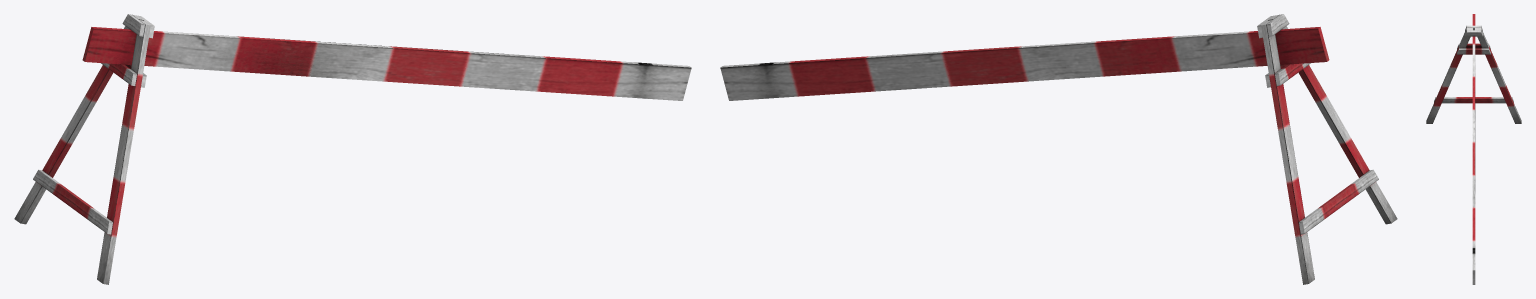
File: barrier_3m_left.glb
3 renders of one model, left to right at view 1: azimuth 30°, elevation 25°; view 2: azimuth 150°, elevation 25°; view 3: azimuth 270°, elevation 25°, orthographic. The views are drawn at different scales.
Visible parts, largest first — view 1: Barieraka_Drewno_3m_lewa_0; view 2: Barieraka_Drewno_3m_lewa_0; view 3: Barieraka_Drewno_3m_lewa_0.
Boxes of the visible parts, x1=… form: Barieraka_Drewno_3m_lewa_0: x1=14, y1=14, x2=691, y2=284; Barieraka_Drewno_3m_lewa_0: x1=720, y1=14, x2=1397, y2=284; Barieraka_Drewno_3m_lewa_0: x1=1426, y1=14, x2=1521, y2=284.
Size of the model in its own units: 3.04 by 1 by 0.74.
Materials: 1 (1 with a texture image).
